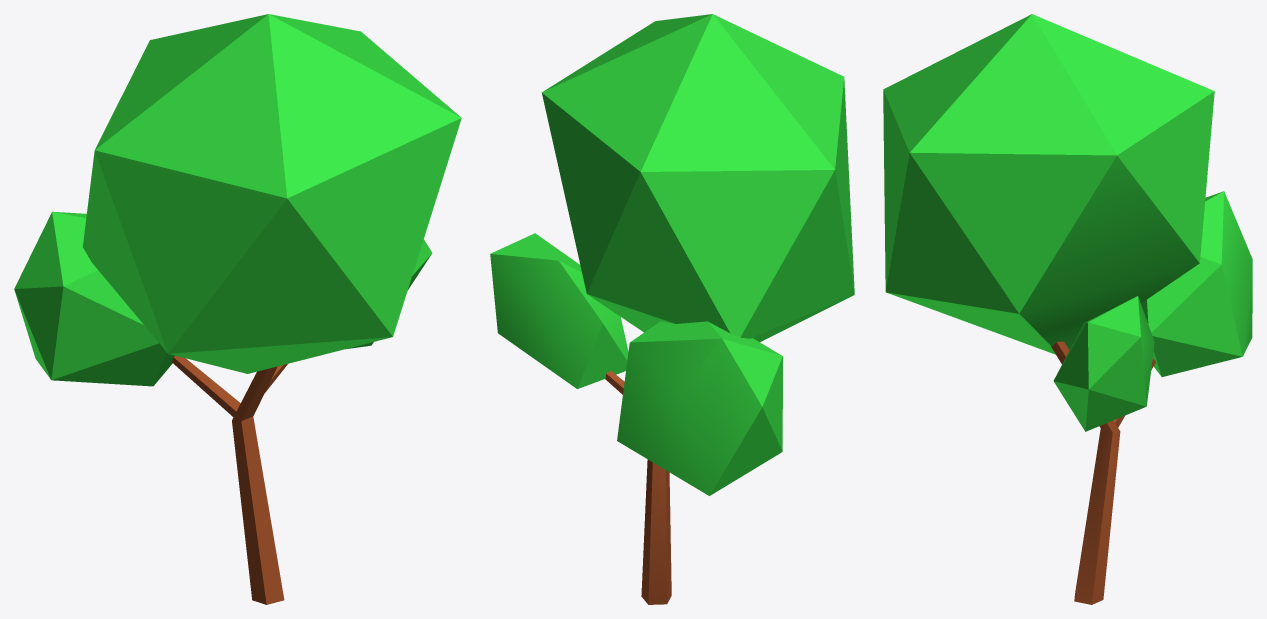
Rendered from tree.fbx.
3 renders of one model, left to right at view 1: azimuth 30°, elevation 25°; view 2: azimuth 150°, elevation 25°; view 3: azimuth 270°, elevation 25°, orthographic. The views are drawn at different scales.
Visible parts, largest first — view 1: tree; view 2: tree; view 3: tree.
Part boxes in pixels (x1,y1,x2,y2): tree: [14, 14, 461, 604]; tree: [490, 14, 854, 604]; tree: [883, 14, 1252, 604].
Size of the model in its own units: 214 by 361 by 211.
